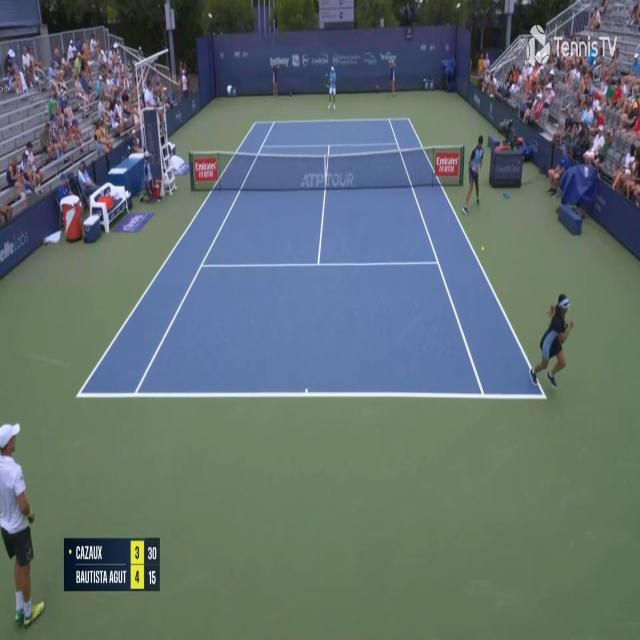tennis-player: (0, 419, 48, 630), (324, 61, 338, 110)
